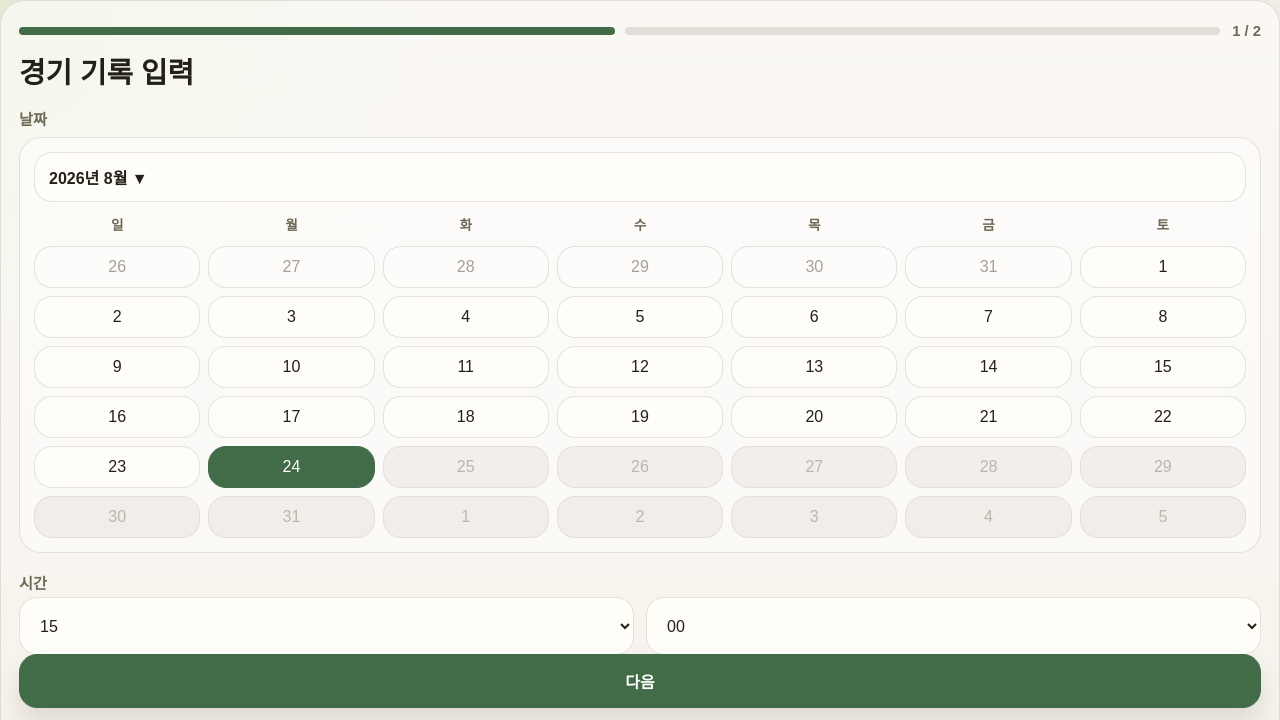
Test: EntryFlowClient › 잘못된 값이면 오류 메시지를 보여주고 enter로도 다음 필드로 이동하지 않는다
Click the button "다음": click(640, 681) [19,654,1261,708]
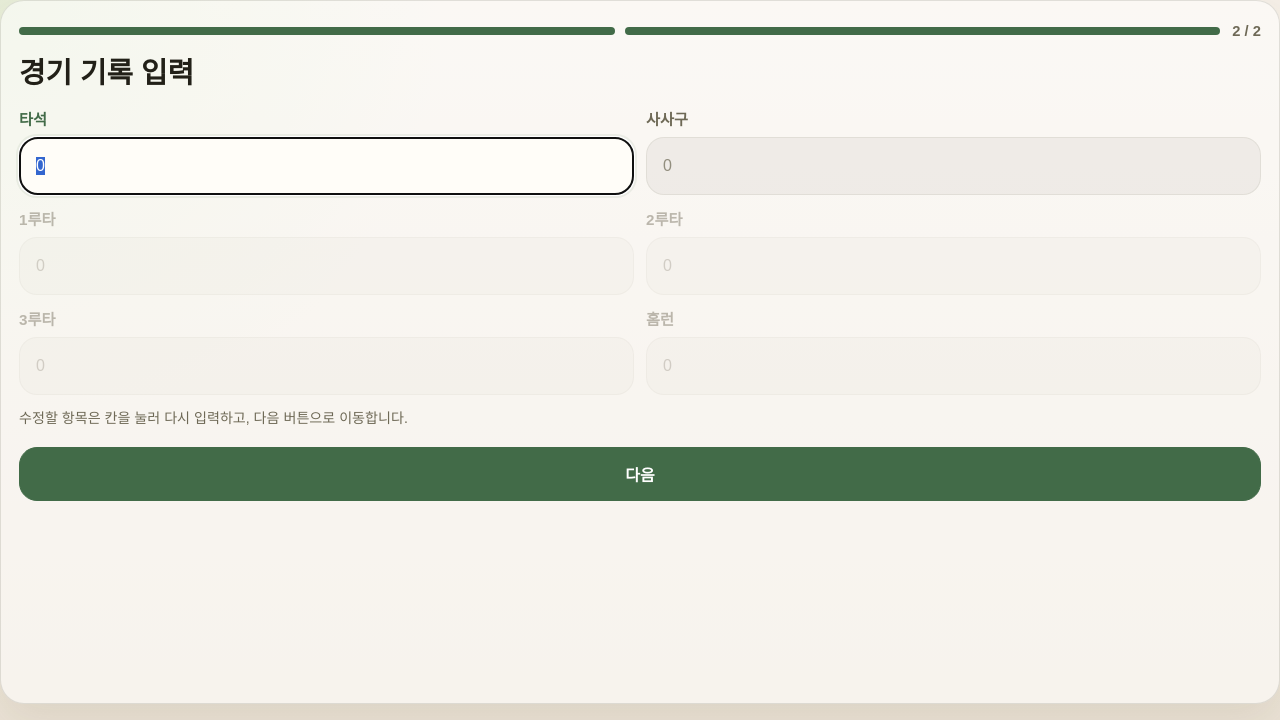
Replace the text in the field labelled "타석" with "1": (326, 166) [19,137,634,195]
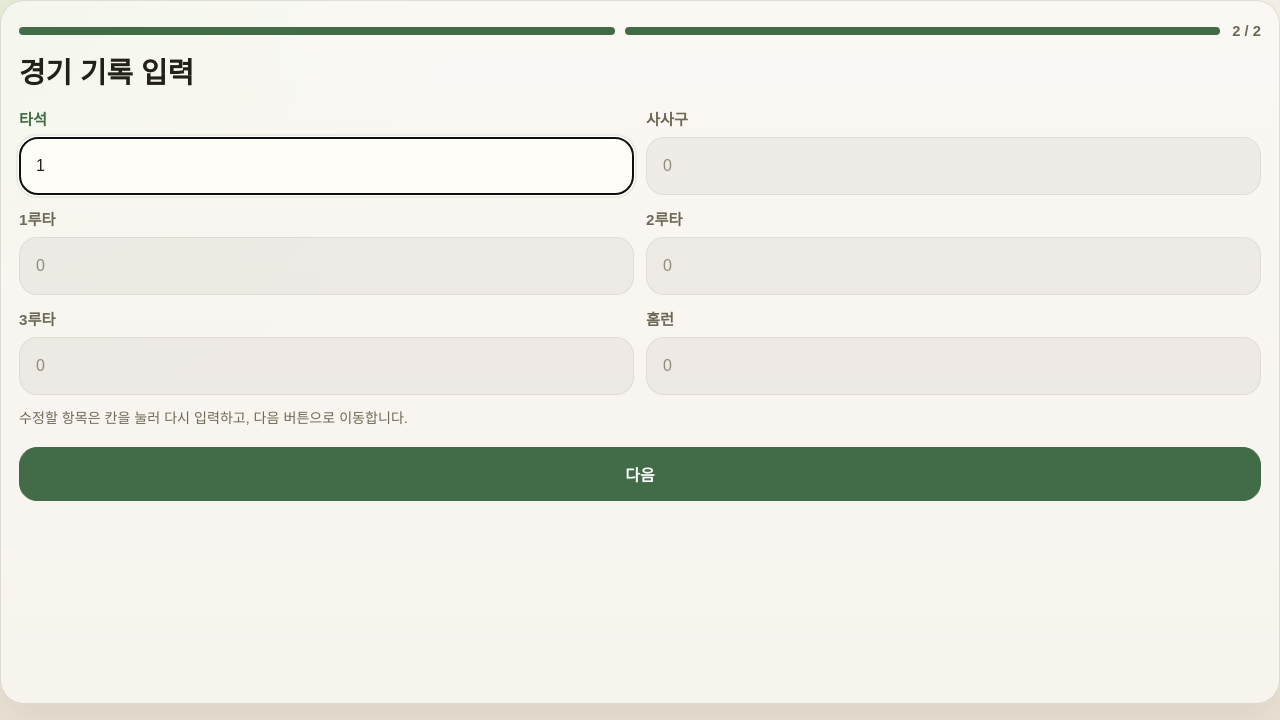
Click the button "사사구": click(954, 151) [646,107,1261,195]
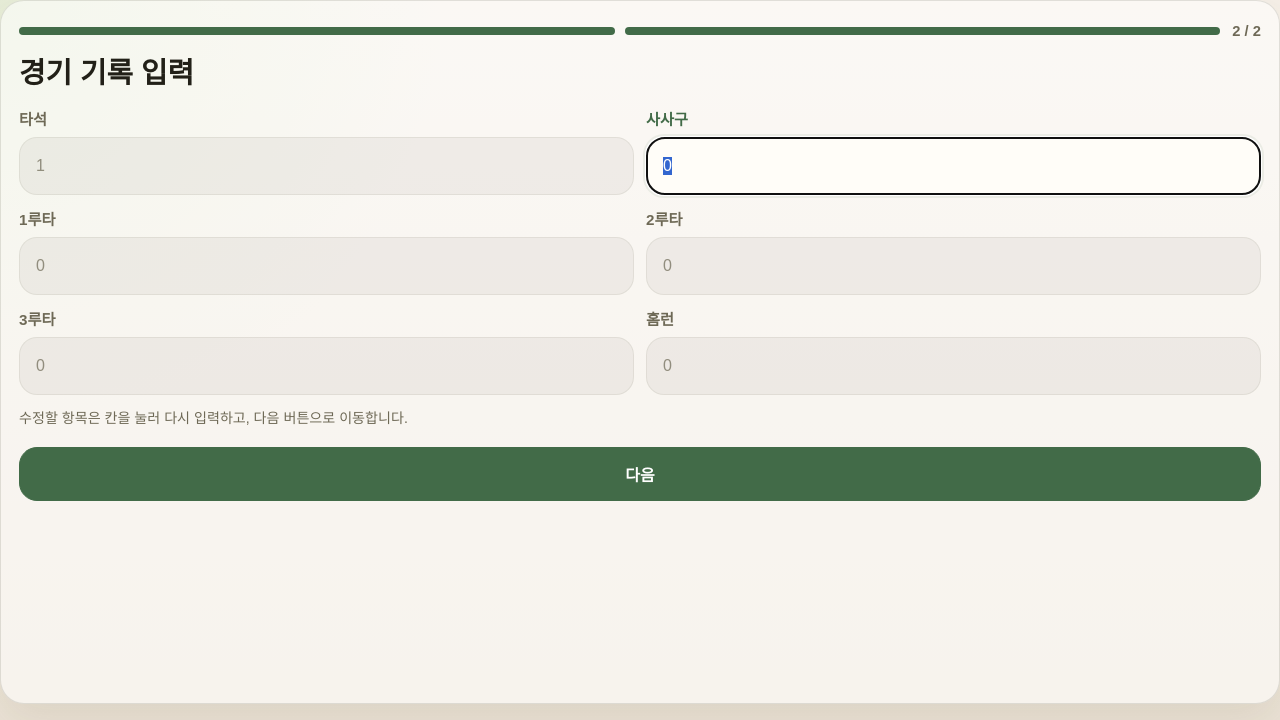
Replace the text in the field labelled "사사구" with "2": (954, 166) [646,137,1261,195]
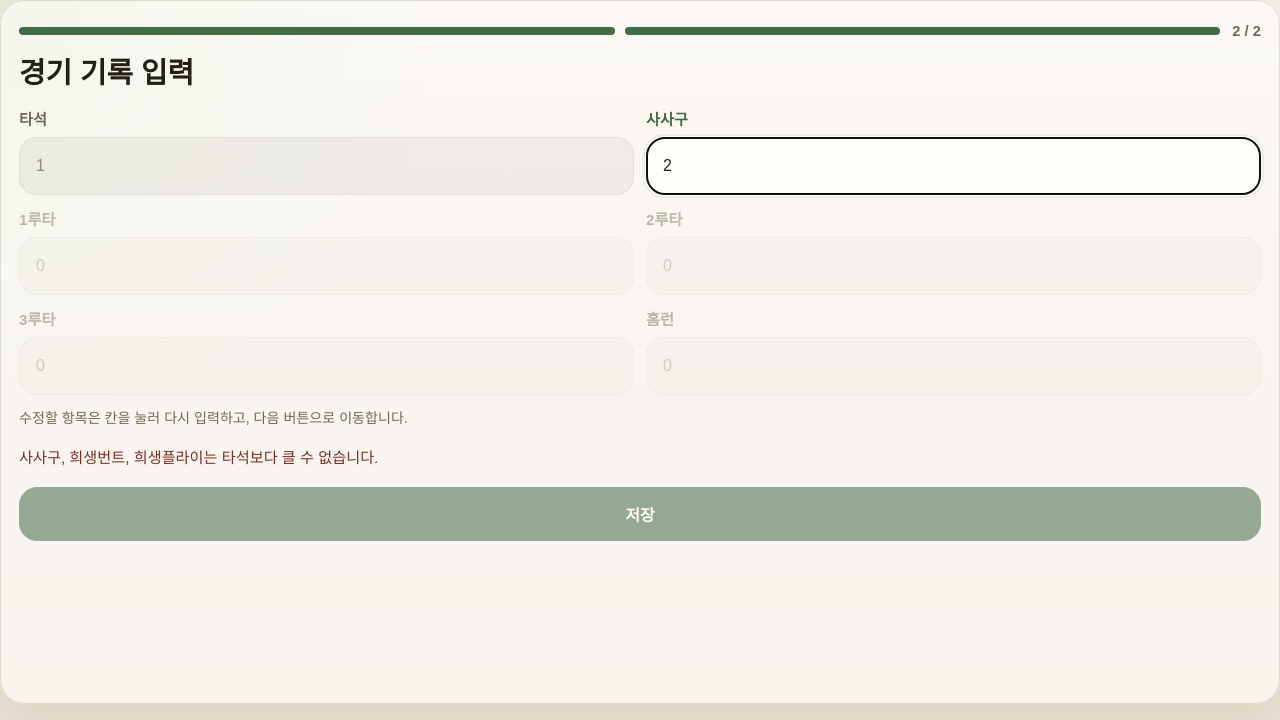
Result: the text "사사구, 희생번트, 희생플라이는 타석보다 클 수 없습니다." is shown at [19,449,378,466]
